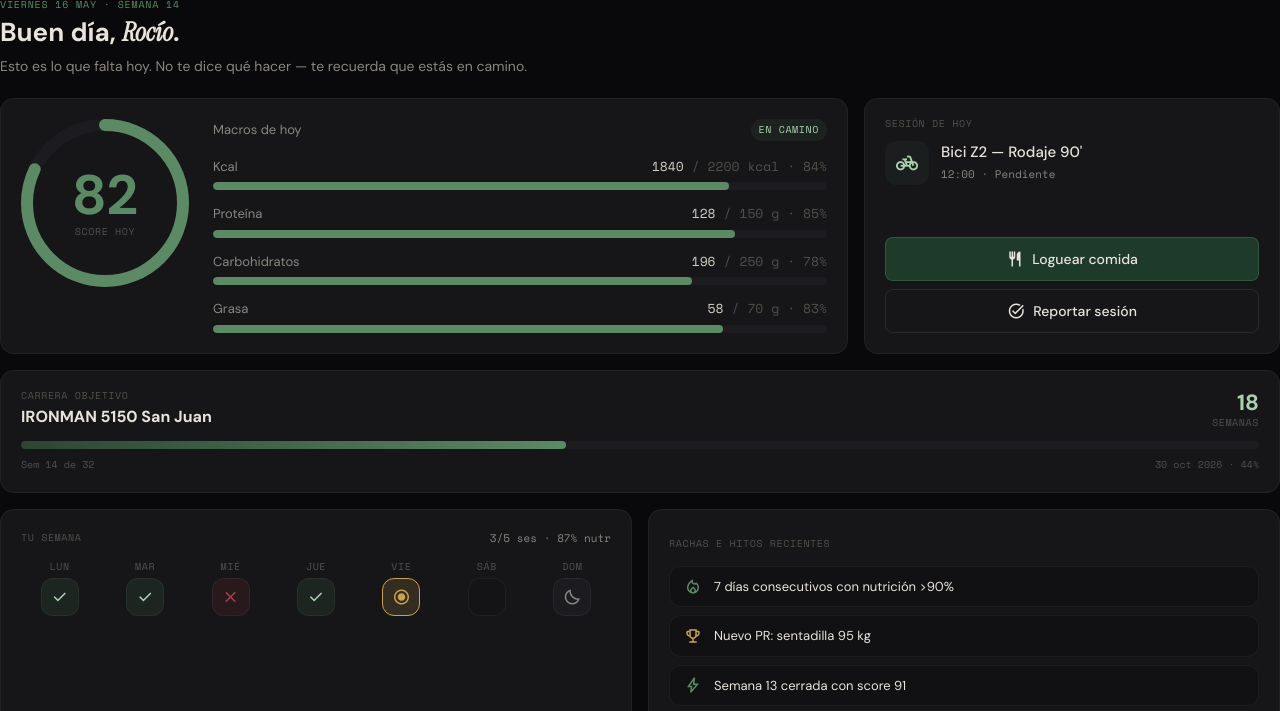
Test: Home — Inicio / Mi Semana › shows the score ring and reveals the breakdown when clicked
Expected: the text "Desglose del Performance Score" is not shown
Click the button with aria-label "Ver desglose del score" at (105, 206), box [21, 119, 189, 294]
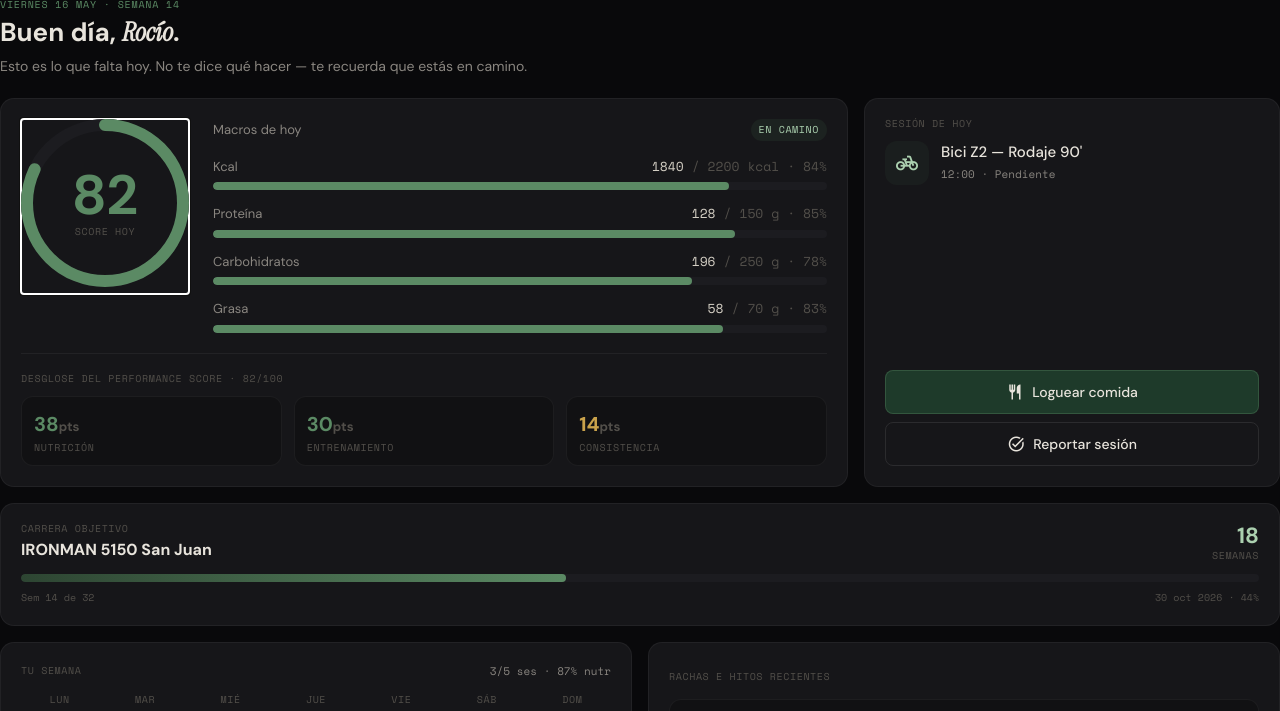
Now the text "Desglose del Performance Score · 82/100" is shown, box [21, 371, 283, 386]
Now the text "Consistencia" is shown, box [579, 440, 660, 455]
